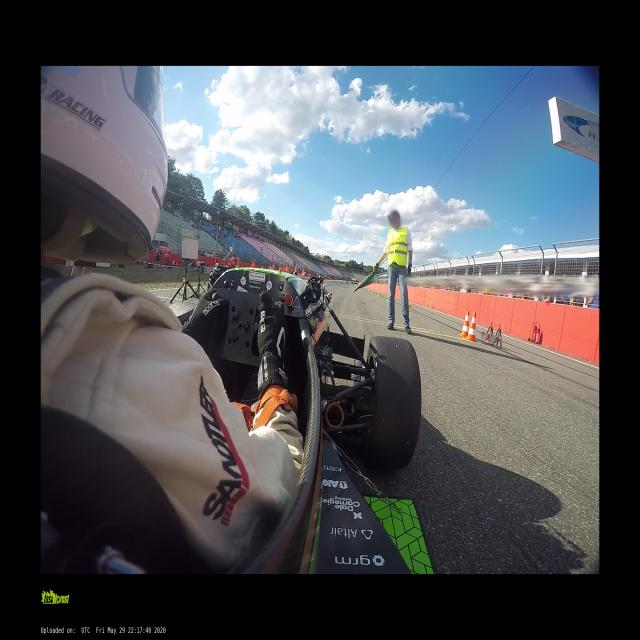blue_cone: (326, 282, 327, 286), (329, 282, 330, 285), (333, 282, 334, 285), (332, 282, 332, 285), (335, 282, 335, 284), (336, 281, 336, 284)
large_orange_cone: (461, 310, 470, 338), (469, 312, 476, 341)
yellow_cone: (408, 303, 411, 312), (377, 292, 379, 297), (430, 303, 432, 308), (364, 287, 366, 291), (354, 283, 356, 286), (372, 290, 373, 294), (368, 288, 369, 292), (388, 296, 388, 301), (363, 287, 363, 289)
